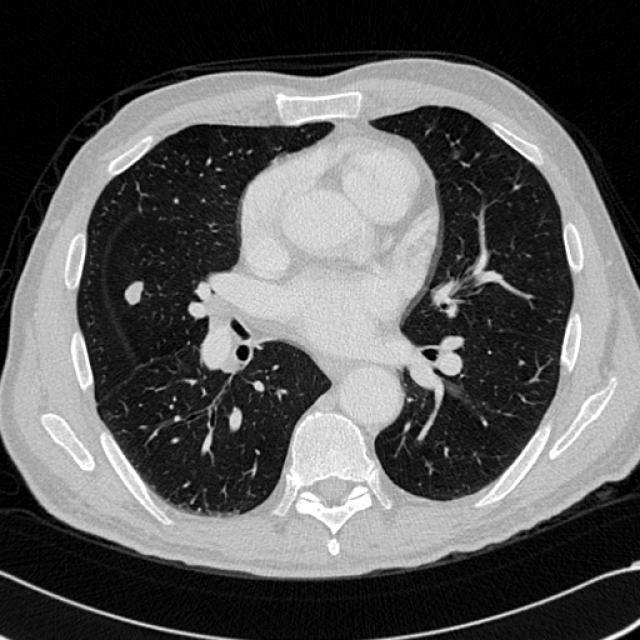nodule: (110, 268, 155, 314)
